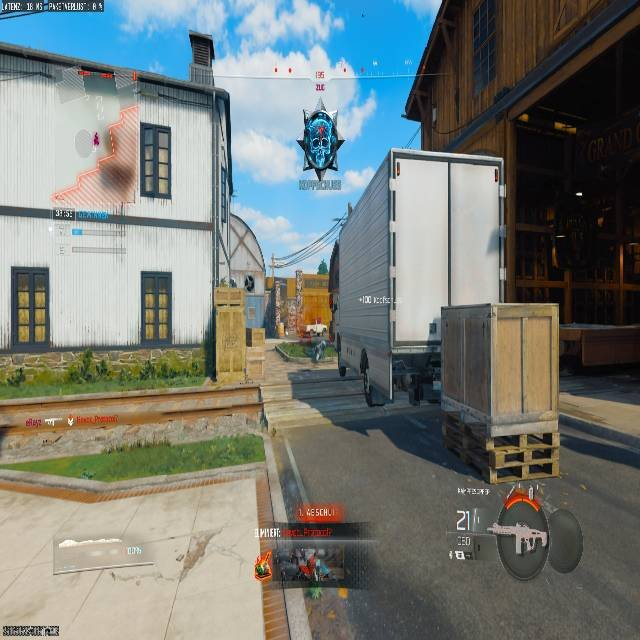player: (295, 105, 344, 182), (308, 322, 328, 361)
